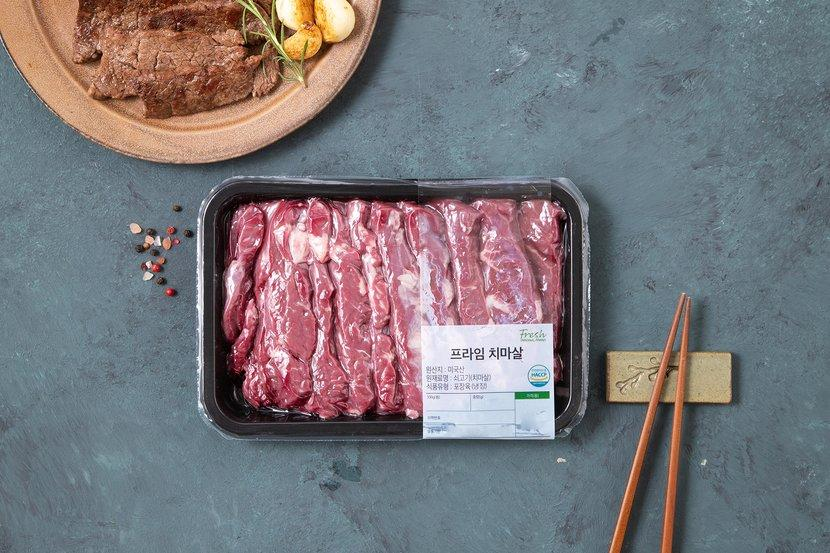beef: (302, 176, 550, 359)
